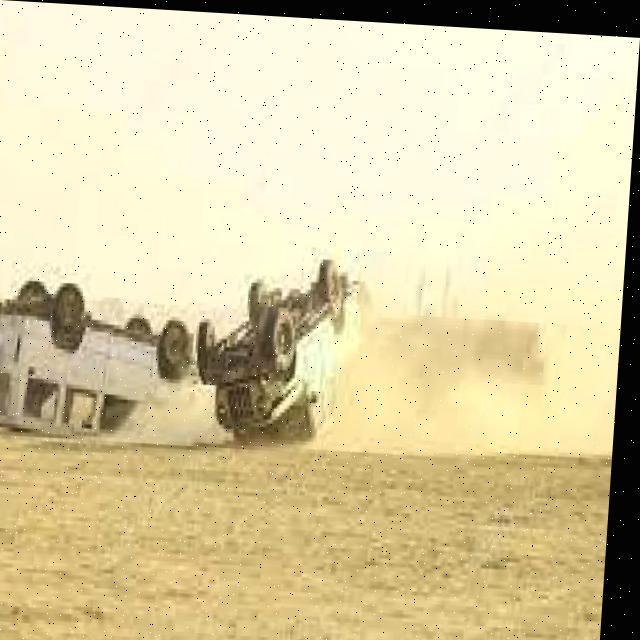multiple_accident: (10, 237, 433, 488)
